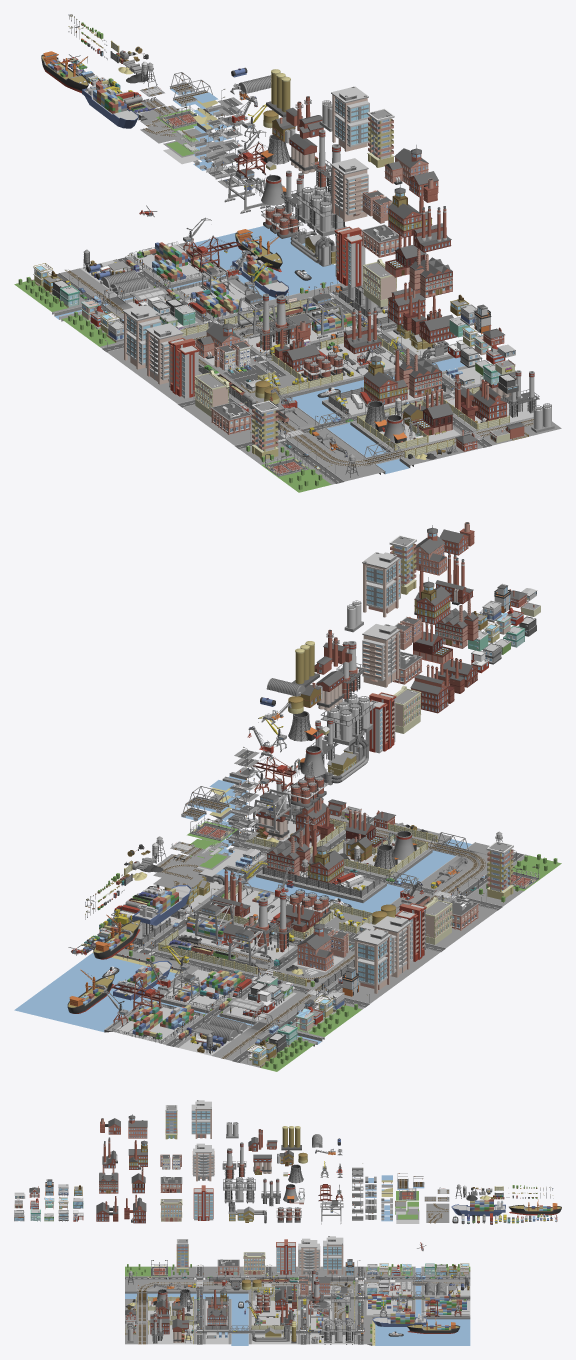
Rendered from Tile_pack_city_3d_low_poly_6_Industrial.fbx.
3 renders of one model, top to bottom at view 1: azimuth 30°, elevation 25°; view 2: azimuth 150°, elevation 25°; view 3: azimuth 270°, elevation 25°, orthographic. The views are drawn at different scales.
Parts seen in each view (by area): view 1: home_high.001, home_high.003, home_high.002, home_high.006, Cube.008, home_high.005, home_high.008, polySurface2429.001, polySurface2430, home_living_1.001, home_living_1.002, transport_water.002 (+45 smaller); view 2: home_high.003, home_high.001, home_high.005, Cube.008, home_high.002, home_living_1.001, polySurface2429.001, home_high.008, transport_water.002, polySurface1383.001, polySurface2430.002, polySurface2429 (+35 smaller); view 3: home_high.003, home_high.005, home_high.001, home_high.008, Cube.008, Cube.017, home_high.002, transport_water.002, home_high.006, transport_water.004, polySurface1555.001, polySurface1260.001 (+22 smaller).
Part boxes in pixels (<box>): home_high.001: <box>331,86,369,151</box>; home_high.003: <box>330,158,368,221</box>; home_high.002: <box>334,226,365,287</box>; home_high.006: <box>168,338,199,398</box>; Cube.008: <box>295,185,346,236</box>; home_high.005: <box>122,304,161,369</box>; home_high.008: <box>145,323,183,384</box>; polySurface2429.001: <box>409,248,452,297</box>; polySurface2430: <box>363,349,407,404</box>; home_living_1.001: <box>251,400,278,459</box>; home_living_1.002: <box>367,108,394,167</box>; transport_water.002: <box>82,78,138,128</box>; home_high.003: <box>362,624,400,687</box>; home_high.001: <box>362,552,400,617</box>; home_high.005: <box>353,928,392,993</box>; Cube.008: <box>320,693,375,745</box>; home_high.002: <box>365,692,396,753</box>; home_living_1.001: <box>486,841,513,899</box>; polySurface2429.001: <box>435,599,478,648</box>; home_high.008: <box>373,916,411,977</box>; transport_water.002: <box>132,885,191,925</box>; polySurface1383.001: <box>410,664,454,713</box>; polySurface2430.002: <box>414,571,450,624</box>; polySurface2429: <box>267,830,310,875</box>; home_high.003: <box>192,1143,214,1181</box>; home_high.005: <box>323,1236,343,1274</box>; home_high.001: <box>191,1100,211,1138</box>; home_high.008: <box>298,1238,320,1274</box>; Cube.008: <box>223,1177,255,1203</box>; Cube.017: <box>322,1318,355,1344</box>; home_high.002: <box>193,1185,213,1220</box>; transport_water.002: <box>451,1199,505,1216</box>; home_high.006: <box>276,1239,295,1274</box>; transport_water.004: <box>372,1311,426,1326</box>; polySurface1555.001: <box>509,1199,561,1215</box>; polySurface1260.001: <box>160,1199,182,1221</box>.
Bounding box in the file's own units: 6402 × 7727 × 19046.
